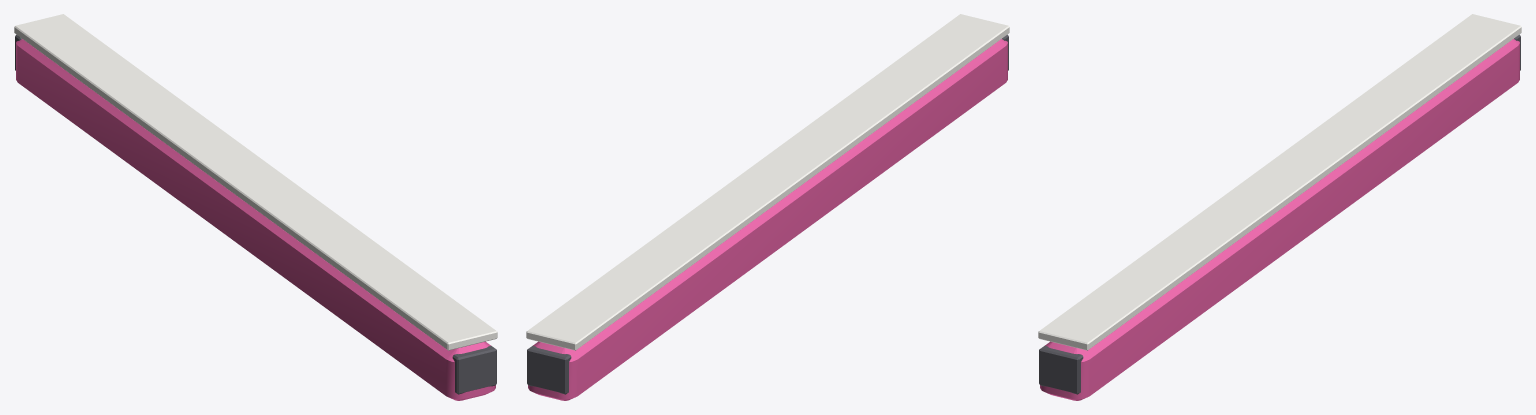
The model's file is bowling-alley-and-pool-hall-bumper-rail-84280b46__33853.glb.
The picture shows the model from 3 angles, left to right: view 1: azimuth 30°, elevation 25°; view 2: azimuth 150°, elevation 25°; view 3: azimuth 330°, elevation 25°; orthographic projection.
Visible parts, largest first — view 1: bumper-rail; view 2: bumper-rail; view 3: bumper-rail.
Boxes of the visible parts, x1,y1,x2,y2 form: bumper-rail: (14, 14, 497, 400); bumper-rail: (526, 14, 1009, 400); bumper-rail: (1038, 14, 1521, 400).
Bounding box in the file's own units: 0.1999 × 0.2299 × 3.05.
